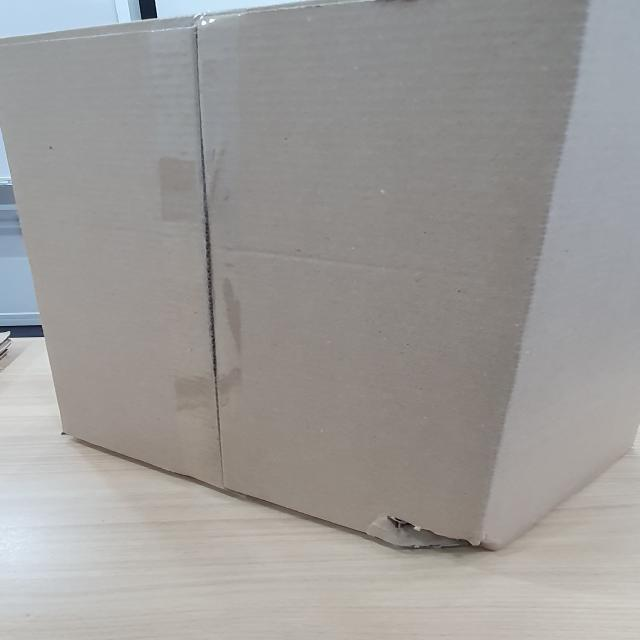hole: (371, 511, 501, 557)
